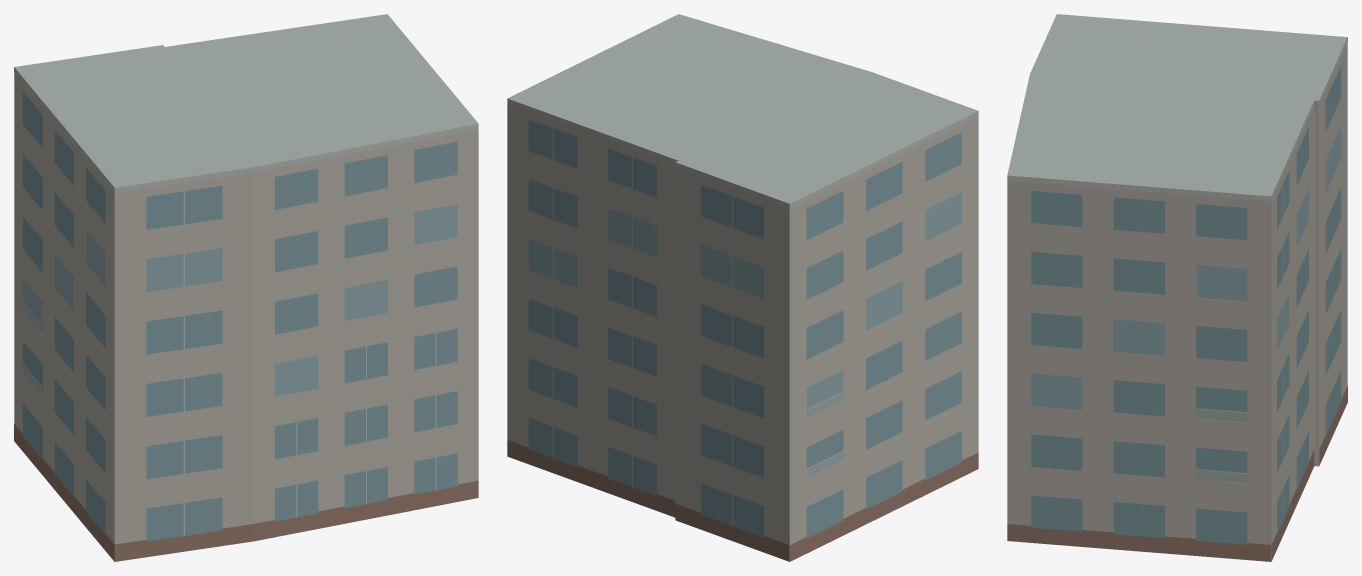
The model's file is survey-upis-32869230.glb.
The picture shows the model from 3 angles, left to right: view 1: azimuth 30°, elevation 25°; view 2: azimuth 150°, elevation 25°; view 3: azimuth 270°, elevation 25°; orthographic projection. The views are drawn at different scales.
Parts seen in each view (by area): view 1: survey-upis-32869230.tmp; view 2: survey-upis-32869230.tmp; view 3: survey-upis-32869230.tmp.
Part boxes in pixels (<box>): survey-upis-32869230.tmp: <box>14,14,478,561</box>; survey-upis-32869230.tmp: <box>507,14,978,561</box>; survey-upis-32869230.tmp: <box>1007,14,1347,561</box>.
Bounding box in the file's own units: 17.78 × 16.6 × 14.03.
